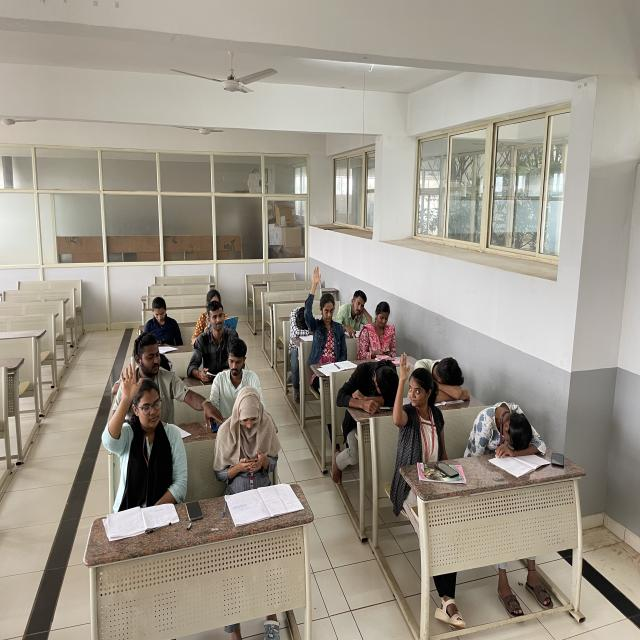Hand Rising: (96, 362, 195, 516), (392, 350, 448, 466), (304, 264, 345, 362)
Reading: (198, 288, 239, 332)
Sleeping: (460, 395, 552, 467), (335, 358, 400, 416), (420, 353, 476, 409), (284, 304, 317, 356)
Using Phone: (136, 328, 223, 431), (207, 383, 286, 496), (206, 339, 251, 438), (355, 301, 400, 361), (142, 296, 184, 348)
